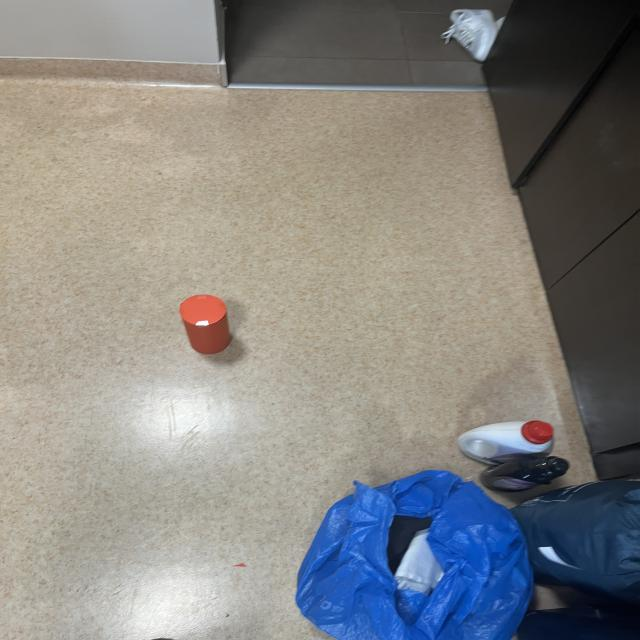przeszkoda: (179, 295, 231, 354)
